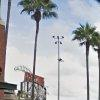Palm tree: (19, 0, 46, 80)
